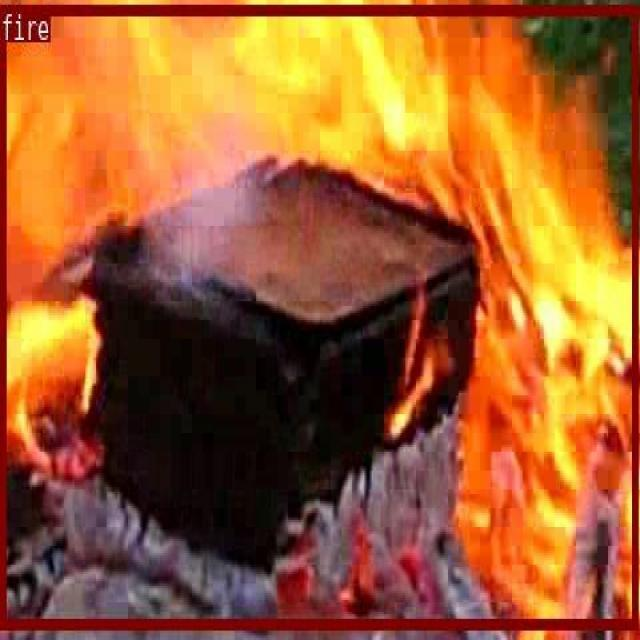fire: (0, 3, 636, 629)
